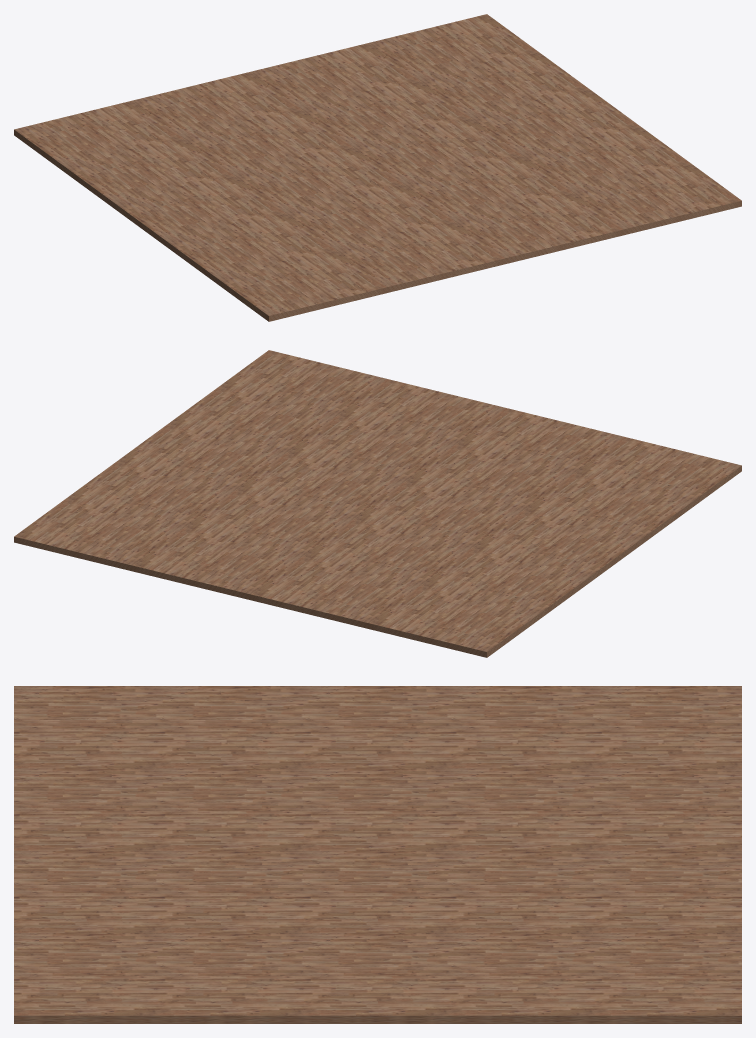
Rendered from Floor.FBX.
3 views of the same model, one above another, from view 1: azimuth 30°, elevation 25°; view 2: azimuth 150°, elevation 25°; view 3: azimuth 270°, elevation 25° (orthographic). The views are drawn at different scales.
Visible parts, largest first — view 1: Floor; view 2: Floor; view 3: Floor.
Boxes of the visible parts, x1,y1,x2,y2 form: Floor: [14, 14, 741, 321]; Floor: [14, 350, 741, 657]; Floor: [14, 686, 741, 1023].
Size of the model in its own units: 1190 by 14.11 by 1111.
1 material, 1 textured.
